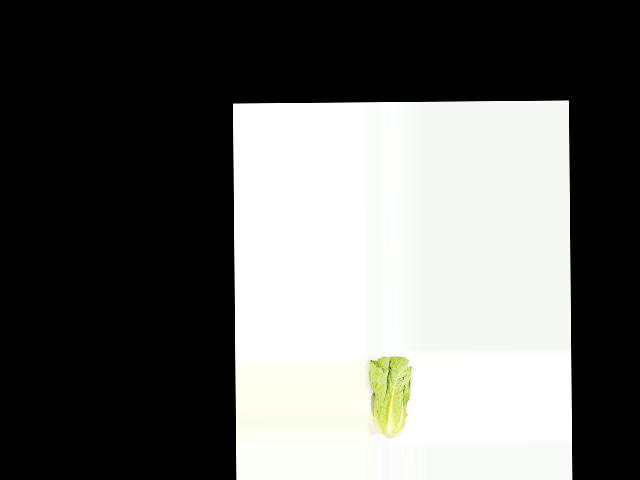lettuce: (368, 356, 414, 439)
